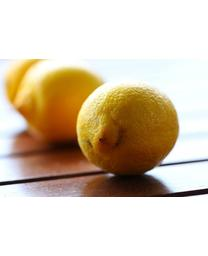lemon: (78, 79, 180, 175), (15, 60, 107, 143)
